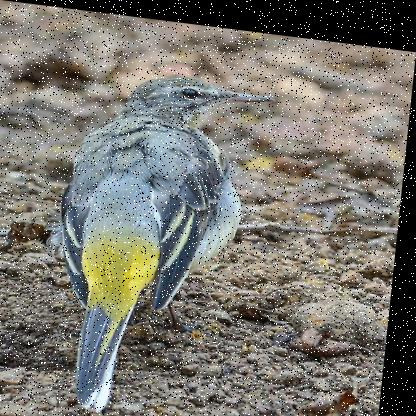Burung: (40, 56, 277, 415)
